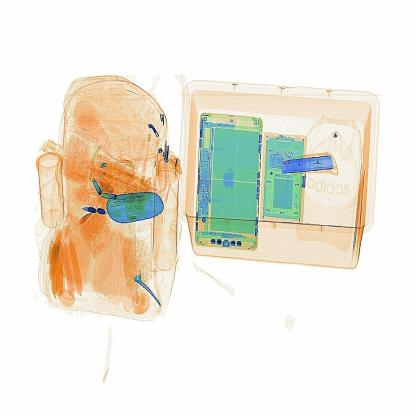pliers: (278, 154, 340, 177)
